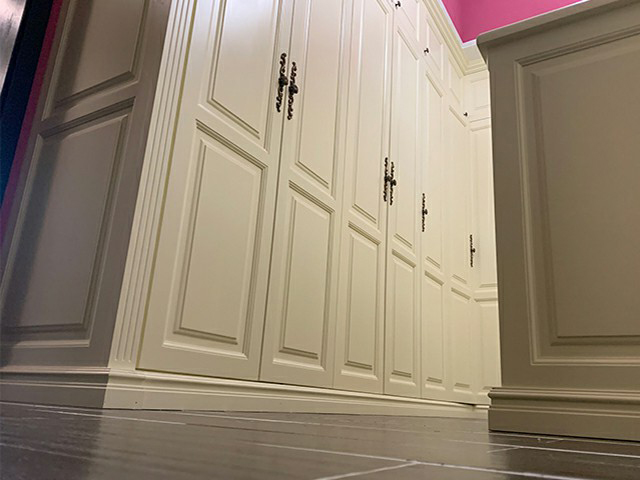cabinet: (1, 1, 502, 409), (474, 1, 640, 443)
